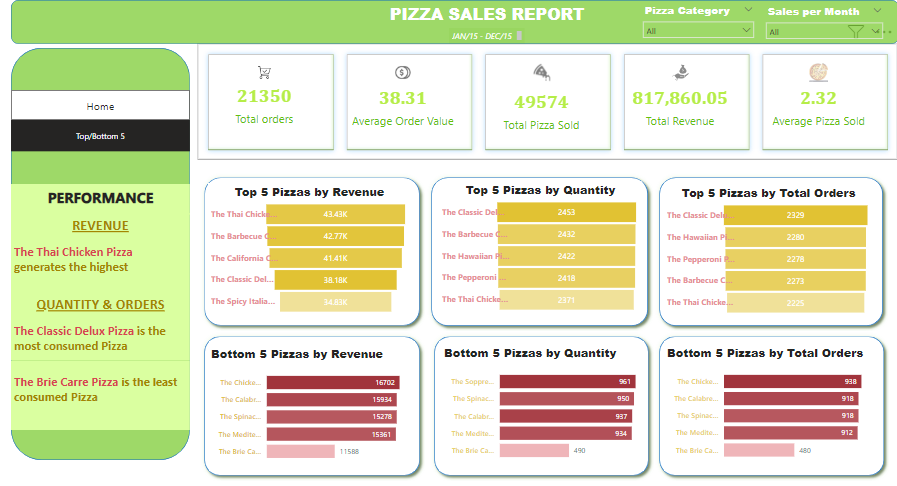

Layout of this report page (visuals, bound fields, positions):
{"tool":"powerbi","page":{"name":"Top/Bottom 5","canvas":[1500,820],"ordinal":1},"visuals":[{"type":"shape","box":[20,80,298.3,686.7],"z":0},{"type":"cardVisual","fields":{"Data":["pizza_sales.Total orders","pizza_sales.Average Order Value","pizza_sales.Total Pizza Sold","pizza_sales.Total Revenue","pizza_sales.Average Pizza Sold"]},"box":[331.6,73.7,1165.8,192.1],"z":1000},{"type":"shape","box":[20,0,1480,73.3],"z":2000},{"type":"textbox","box":[626.3,0,373.7,47.4],"z":3000},{"type":"textbox","box":[750,47.4,126.3,26.3],"z":4000},{"type":"shape","box":[332.7,551.9,376.9,250],"z":5000},{"type":"shape","box":[717.3,551.9,375,250],"z":6000},{"type":"shape","box":[1092.3,551.9,392.3,250],"z":7000},{"type":"textbox","box":[19.7,355.7,298.4,245.9],"z":8000},{"type":"textbox","box":[19.7,306.6,298.4,50.8],"z":9000},{"type":"textbox","box":[19.7,601.6,298.4,114.8],"z":10000},{"type":"slicer","fields":{"Values":["pizza_sales.pizza_category"]},"box":[1063.3,0,205,70],"z":11000},{"type":"slicer","fields":{"Values":["pizza_sales.Order Month"]},"box":[1268.3,1.7,215,70],"z":12000},{"type":"shape","box":[333.3,286.7,376.7,265],"z":13000},{"type":"shape","box":[711.5,286.5,378.8,265.4],"z":14000},{"type":"shape","box":[1092.3,286.5,390.4,265.4],"z":15000},{"type":"funnel","title":"Top 5 Pizzas by Revenue","fields":{"Category":["pizza_sales.pizza_name"],"Y":["pizza_sales.Total Revenue"]},"box":[348.1,305.8,338.5,223.1],"z":16000},{"type":"barChart","title":"Bottom 5 Pizzas by Revenue","fields":{"Category":["pizza_sales.pizza_name"],"Y":["pizza_sales.Total orders"]},"box":[348.6,575,338.9,205.6],"z":16001},{"type":"barChart","title":"Bottom 5 Pizzas by Quantity","fields":{"Category":["pizza_sales.pizza_name"],"Y":["pizza_sales.Total Pizza Sold"]},"box":[736.5,573.1,338.5,205.8],"z":16002},{"type":"barChart","title":"Bottom 5 Pizzas by Total Orders","fields":{"Category":["pizza_sales.pizza_name"],"Y":["pizza_sales.Total orders"]},"box":[1108.2,573.8,349.2,204.9],"z":16003},{"type":"funnel","title":"Top 5 Pizzas by Quantity","fields":{"Category":["pizza_sales.pizza_name"],"Y":["pizza_sales.Total Pizza Sold"]},"box":[732.7,301.9,338.5,223.1],"z":16004},{"type":"funnel","title":"Top 5 Pizzas by Total Orders","fields":{"Category":["pizza_sales.pizza_name"],"Y":["pizza_sales.Total orders"]},"box":[1108.2,306.6,349.2,223],"z":16005},{"type":"pageNavigator","box":[19.7,149.2,298.4,50.8],"z":16006},{"type":"pageNavigator","box":[19.7,200,298.4,52.5],"z":16007}]}

Visuals, with their boxes in screenshot pixels (x1, y1, x2, y2), scaled from the page's 1500x820 canvas onto the 897x486 screenshot:
shape: box(12, 47, 190, 454)
cardVisual - pizza_sales.Total orders x pizza_sales.Average Order Value: box(198, 44, 895, 158)
shape: box(12, 0, 896, 43)
textbox: box(375, 0, 598, 28)
textbox: box(448, 28, 524, 44)
shape: box(199, 327, 424, 475)
shape: box(429, 327, 653, 475)
shape: box(653, 327, 888, 475)
textbox: box(12, 211, 190, 357)
textbox: box(12, 182, 190, 212)
textbox: box(12, 357, 190, 425)
slicer - pizza_sales.pizza_category: box(636, 0, 758, 41)
slicer - pizza_sales.Order Month: box(758, 1, 887, 42)
shape: box(199, 170, 425, 327)
shape: box(425, 170, 652, 327)
shape: box(653, 170, 887, 327)
"Top 5 Pizzas by Revenue" funnel: box(208, 181, 411, 313)
"Bottom 5 Pizzas by Revenue" barChart: box(208, 341, 411, 463)
"Bottom 5 Pizzas by Quantity" barChart: box(440, 340, 643, 462)
"Bottom 5 Pizzas by Total Orders" barChart: box(663, 340, 872, 462)
"Top 5 Pizzas by Quantity" funnel: box(438, 179, 641, 311)
"Top 5 Pizzas by Total Orders" funnel: box(663, 182, 872, 314)
pageNavigator: box(12, 88, 190, 119)
pageNavigator: box(12, 119, 190, 150)
